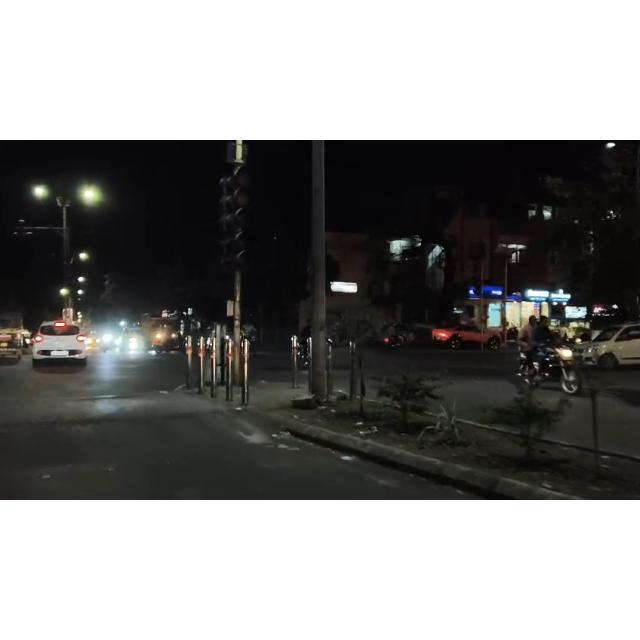auto: (0, 307, 24, 365)
car: (572, 313, 640, 367), (28, 320, 92, 372), (434, 317, 512, 348)
